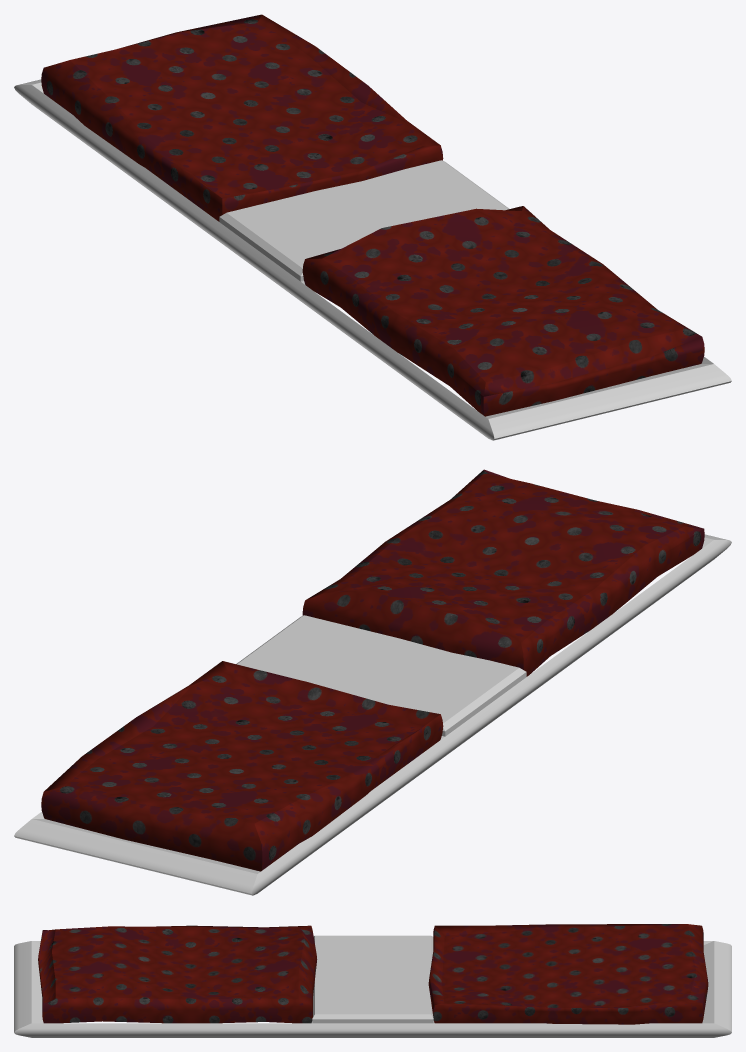
File: SM_WindowCushionSeat.fbx
3 views of the same model, one above another, from view 1: azimuth 30°, elevation 25°; view 2: azimuth 150°, elevation 25°; view 3: azimuth 270°, elevation 25° (orthographic). The views are drawn at different scales.
Parts seen in each view (by area): view 1: Window Cushion; view 2: Window Cushion; view 3: Window Cushion.
Boxes of the visible parts, <box> form: Window Cushion: <box>14,14,731,440</box>; Window Cushion: <box>14,469,731,895</box>; Window Cushion: <box>14,924,731,1037</box>.
Bounding box in the file's own units: 204 × 48.02 × 714.
